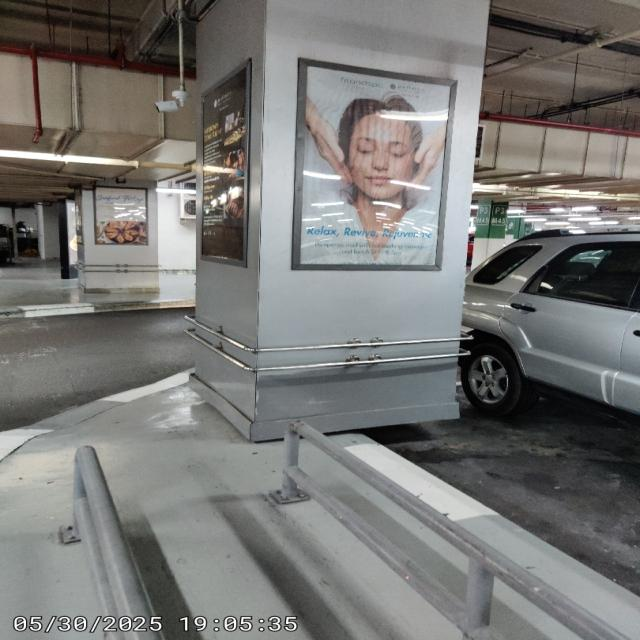poster: (295, 57, 457, 272)
